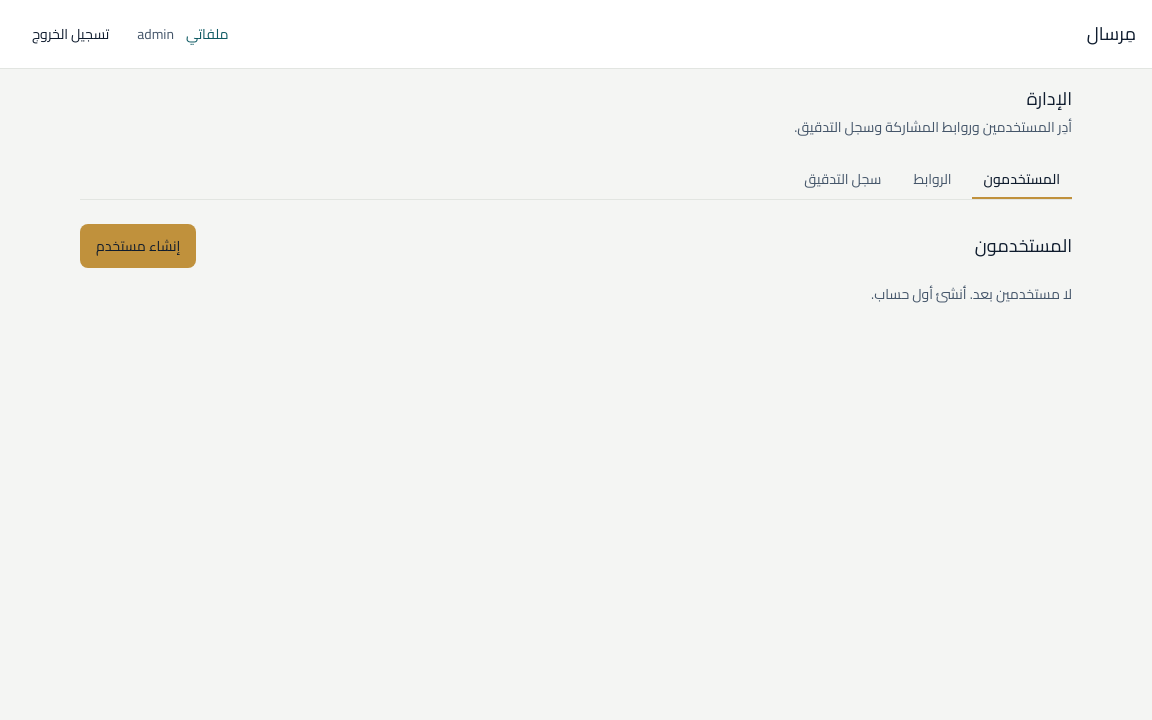
it: Admin — CreateUserModal validation (§3.1) › a password under 8 chars shows an inline error and does NOT POST
The width and height of the screenshot is (1152, 720).
Click the button "إنشاء مستخدم" at (138,246), box [80,224,196,268]
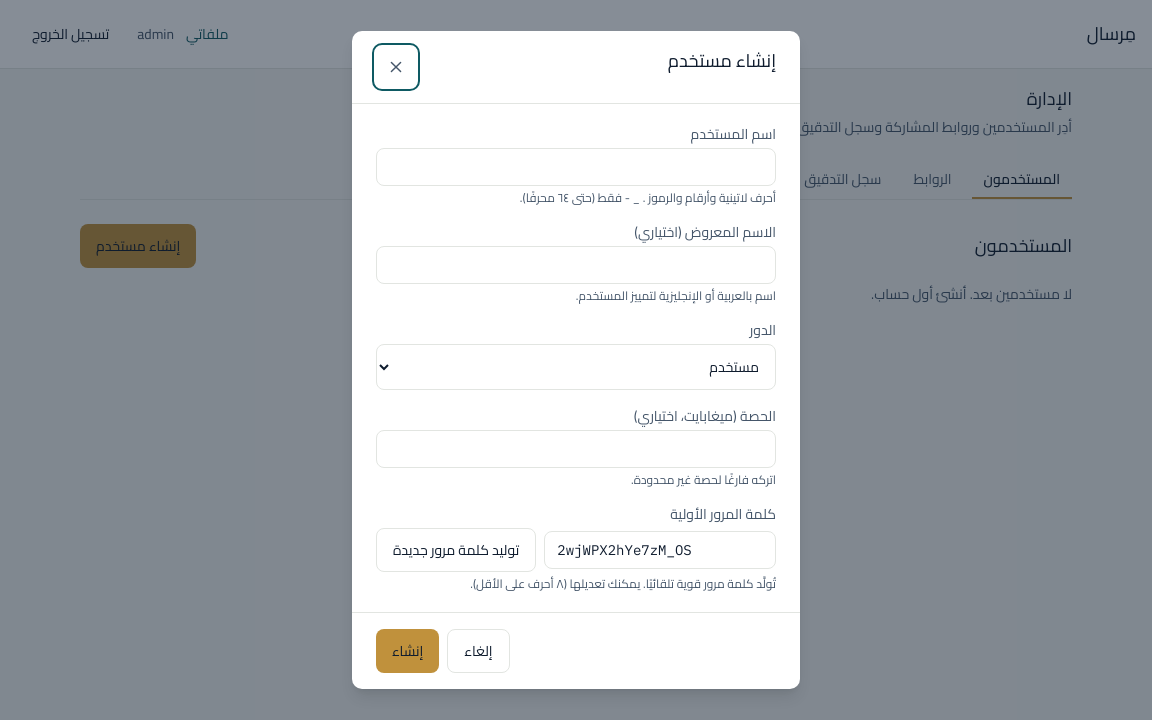
Type "sara" into the field labelled "اسم المستخدم" at (576,167), box [376,148,776,186]
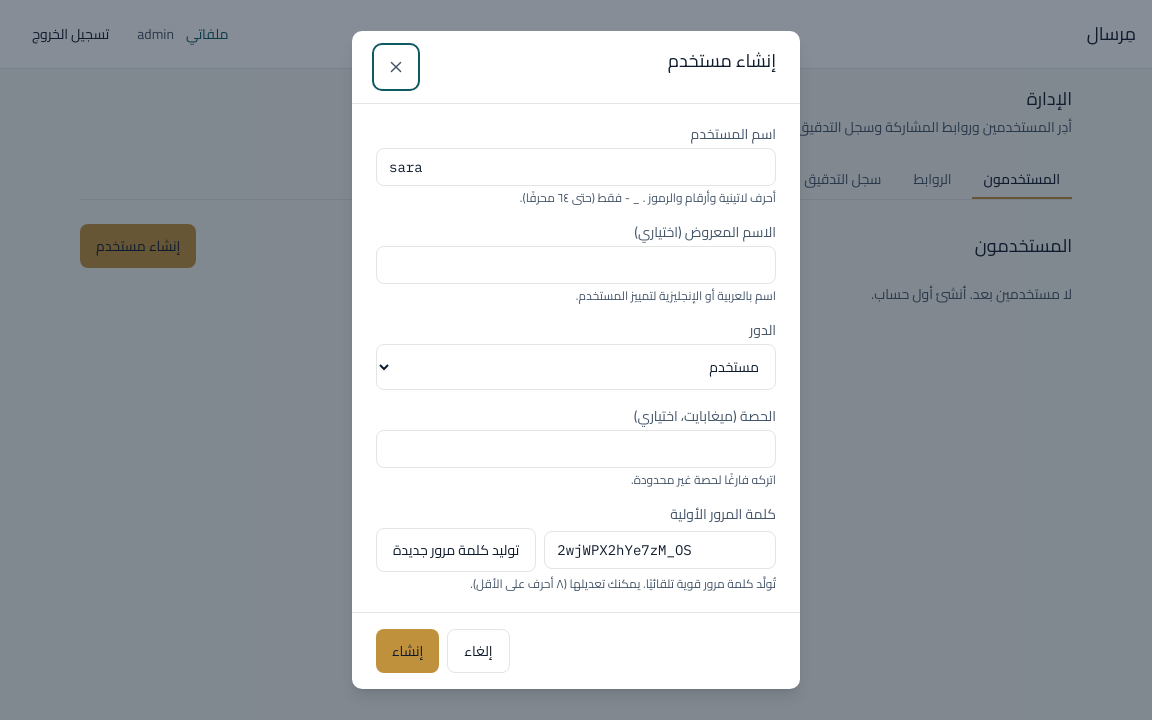
Replace the text in the field labelled "كلمة المرور الأولية" with "short" at (660,550), box [544,531,776,569]
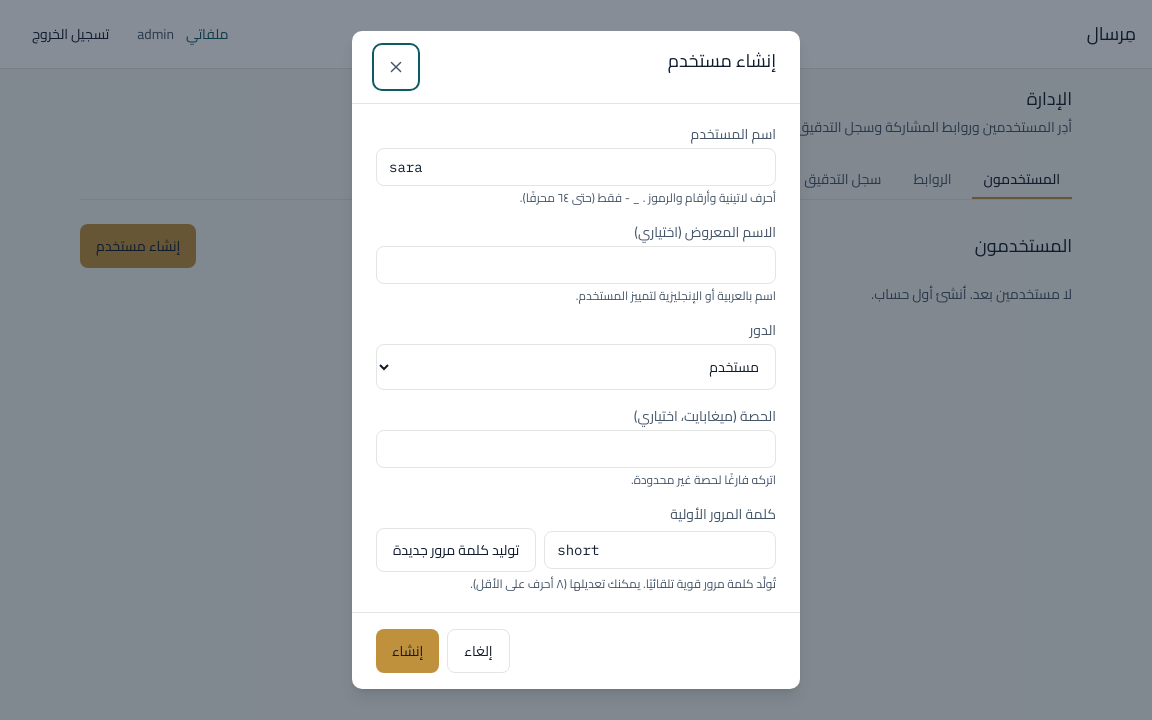
Click the button "إنشاء" at (408,651), box [376,629,439,673]
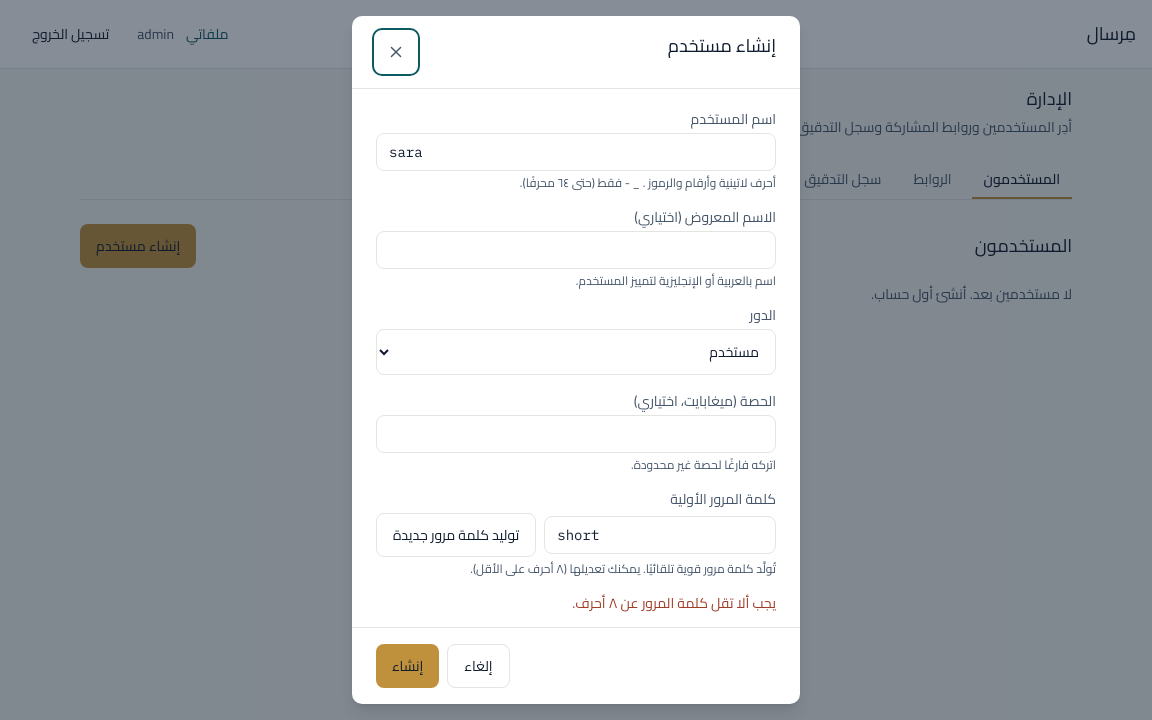
Expected: the text "يجب ألا تقل كلمة المرور عن ٨ أحرف." is shown, [572,590,776,616]
